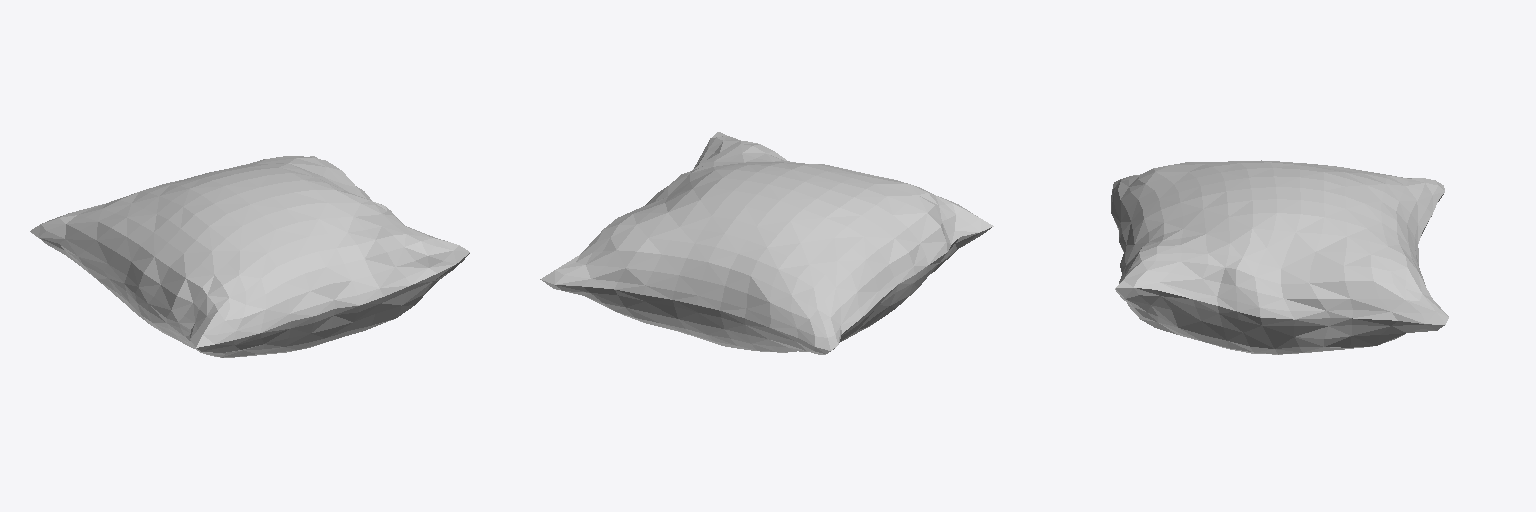
File: uploads_files_746492_Pillows_5-22-17_03.obj
3 renders of one model, left to right at view 1: azimuth 30°, elevation 25°; view 2: azimuth 150°, elevation 25°; view 3: azimuth 270°, elevation 25°, orthographic.
Visible parts, largest first — view 1: Pillow_Left_Cube.005; view 2: Pillow_Left_Cube.005; view 3: Pillow_Left_Cube.005.
Part boxes in pixels (left/top/right/bottom): Pillow_Left_Cube.005: left=30, top=156, right=469, bottom=357; Pillow_Left_Cube.005: left=540, top=132, right=993, bottom=354; Pillow_Left_Cube.005: left=1111, top=160, right=1448, bottom=354.
Size of the model in its own units: 0.7141 by 0.3287 by 0.723.